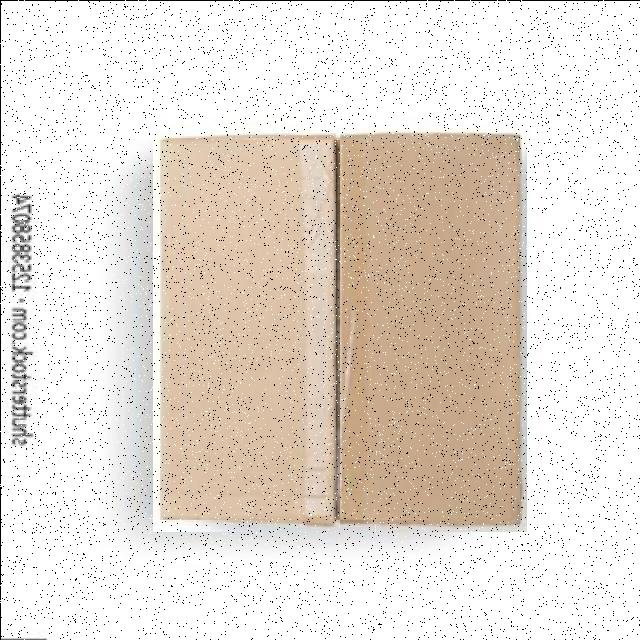normal: (152, 123, 526, 531)
